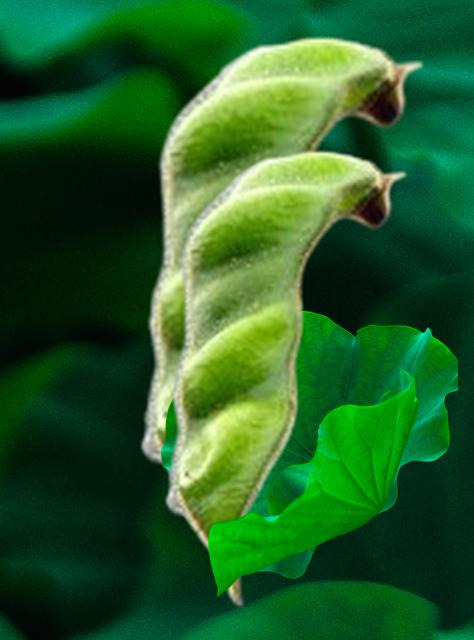pea: (138, 35, 424, 564), (163, 149, 407, 607)
